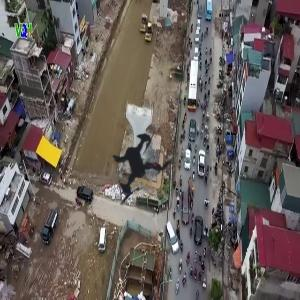drone: (79, 105, 203, 229)
